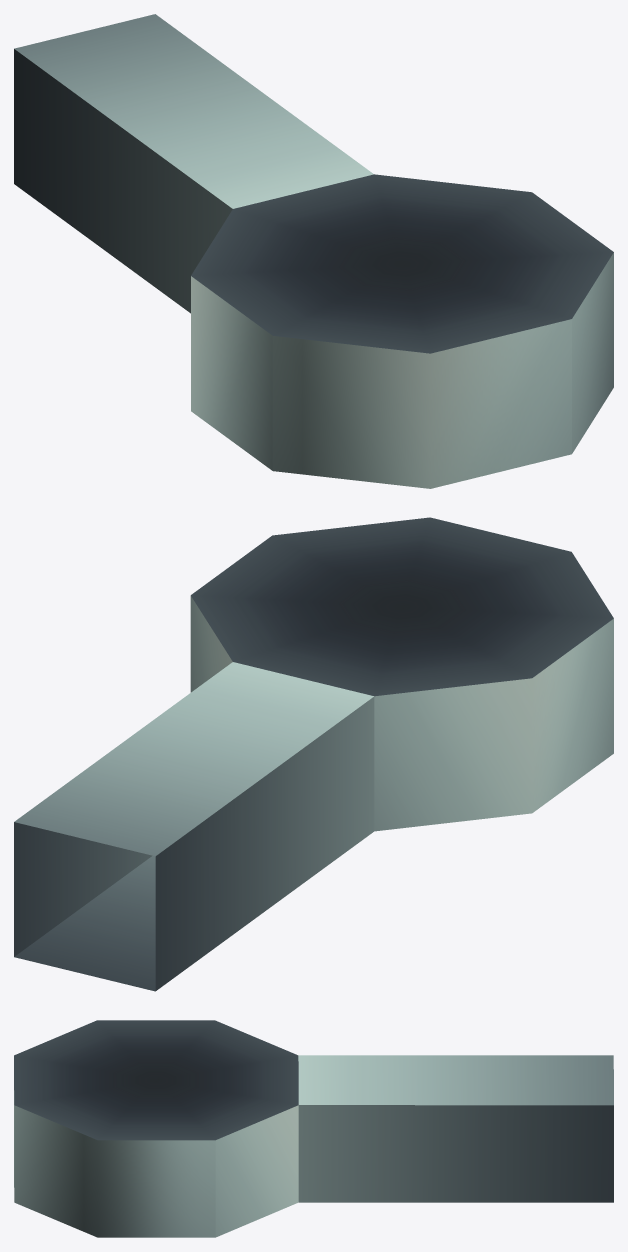
The model's file is drain_clamp_vertical.fbx.
3 views of the same model, one above another, from view 1: azimuth 30°, elevation 25°; view 2: azimuth 150°, elevation 25°; view 3: azimuth 270°, elevation 25° (orthographic). The views are drawn at different scales.
Parts seen in each view (by area): view 1: drain_clamp_vertical; view 2: drain_clamp_vertical; view 3: drain_clamp_vertical.
Boxes of the visible parts, bbox=[...] form: drain_clamp_vertical: bbox=[14, 14, 613, 488]; drain_clamp_vertical: bbox=[14, 517, 613, 991]; drain_clamp_vertical: bbox=[14, 1020, 613, 1237].
Size of the model in its own units: 15.78 by 5.97 by 33.34.
